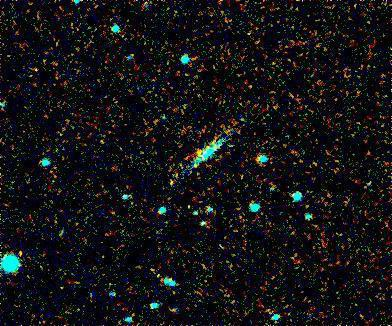star: (185, 136, 215, 166)
